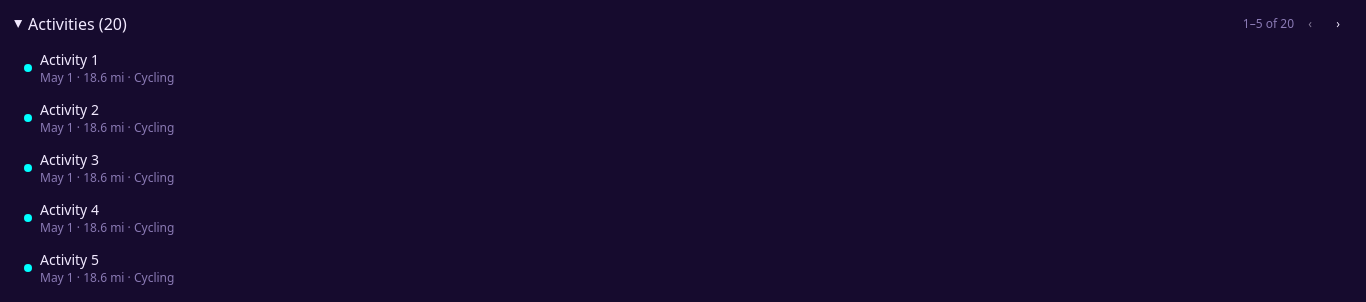
Test case: MapActivityList › pages the list at 5 per page with prev/next
The image size is (1366, 302).
Expected: the text "1–5 of 20" is shown, [1243,16,1294,32]
Expected: the text "Activity 1" is shown, [40,50,99,69]
What coordinates should you click on to do the following:
click the button named "next page"
I would click on:
 (1338, 24)
Its box is [1326,12,1350,36].
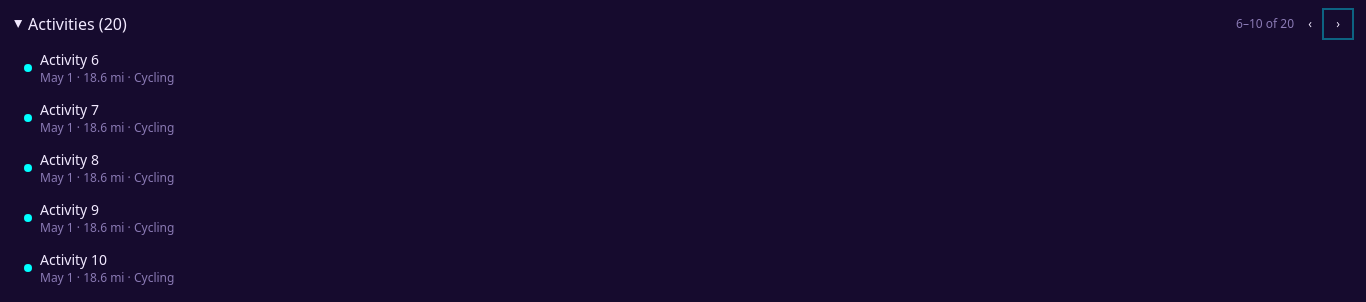
Result: the text "6–10 of 20" is shown at [1236,16,1294,32]
Result: the text "Activity 6" is shown at [40,50,99,69]
